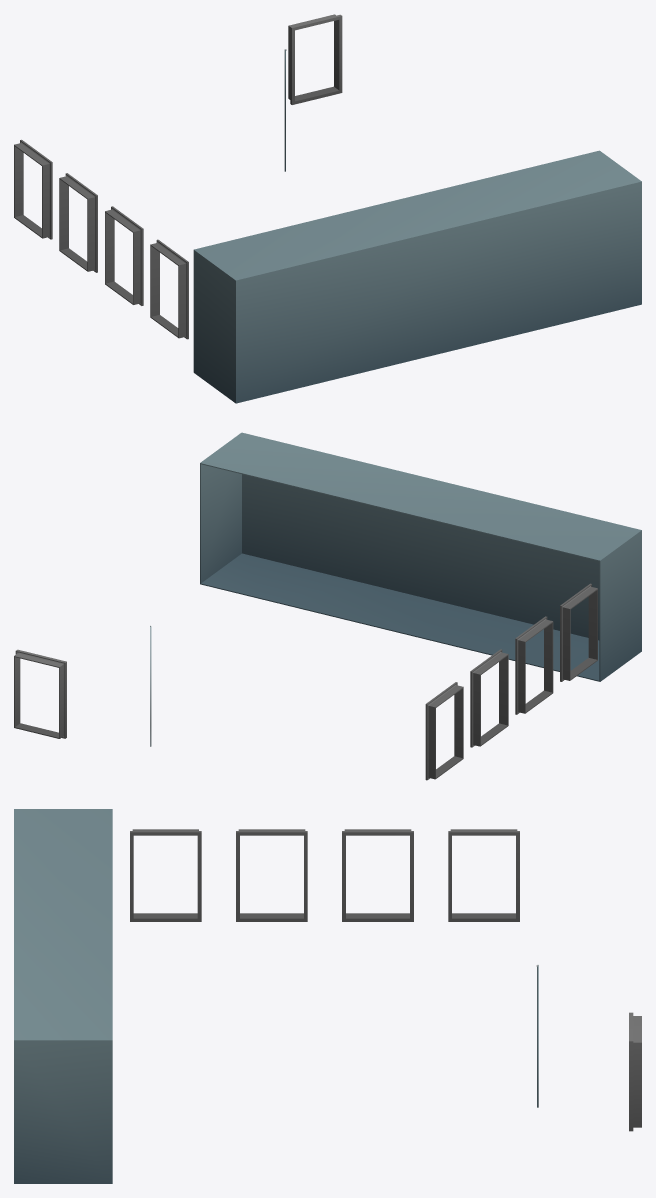
File: koridor.fbx
3 views of the same model, one above another, from view 1: azimuth 30°, elevation 25°; view 2: azimuth 150°, elevation 25°; view 3: azimuth 270°, elevation 25° (orthographic). The views are drawn at different scales.
Visible parts, largest first — view 1: Walls; view 2: Walls; view 3: Walls.
Boxes of the visible parts, x1,y1,x2,y2 form: Walls: [14, 14, 641, 403]; Walls: [14, 432, 641, 780]; Walls: [14, 809, 641, 1183].
Size of the model in its own units: 2139 by 610 by 2417.
